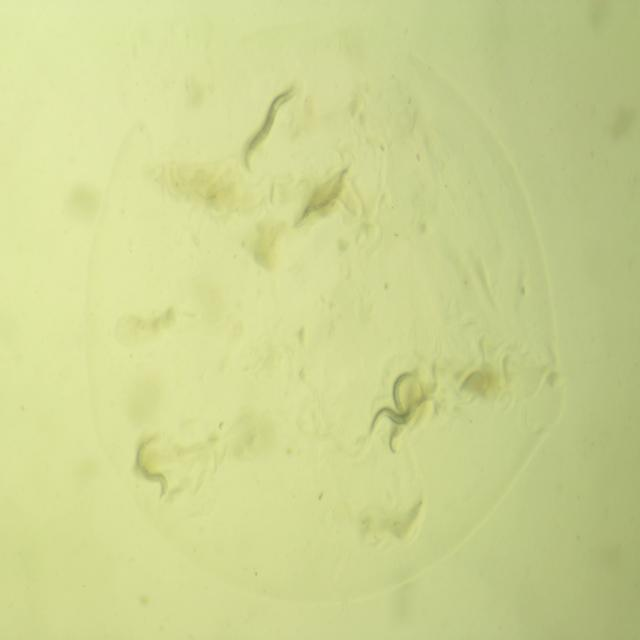worm: (235, 79, 308, 183), (284, 153, 356, 244), (379, 362, 431, 460), (365, 385, 445, 445), (127, 430, 179, 506)
